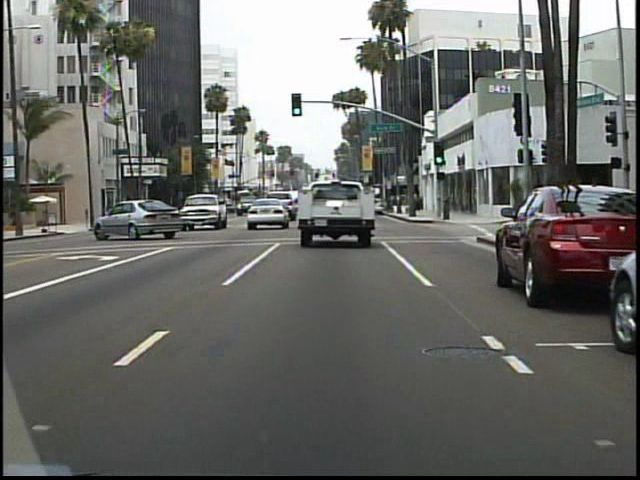person: (441, 186, 455, 223)
